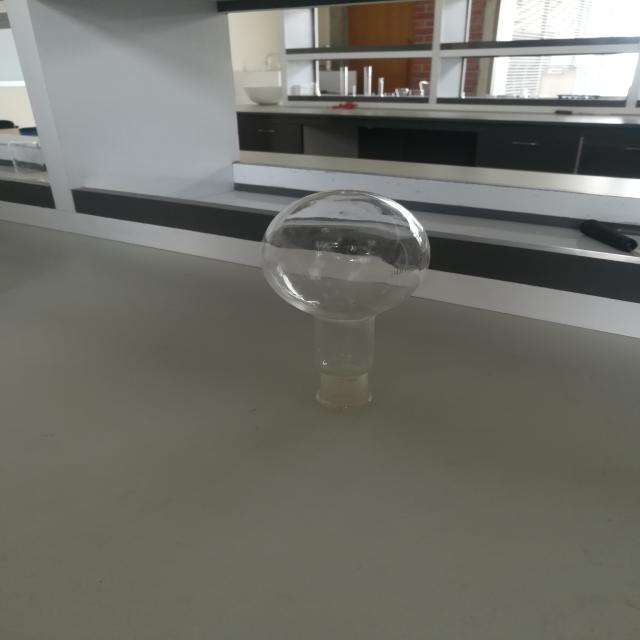Round_Bottom_Flask_Borosilicate_Glass_1_Neck: (149, 124, 526, 450)
